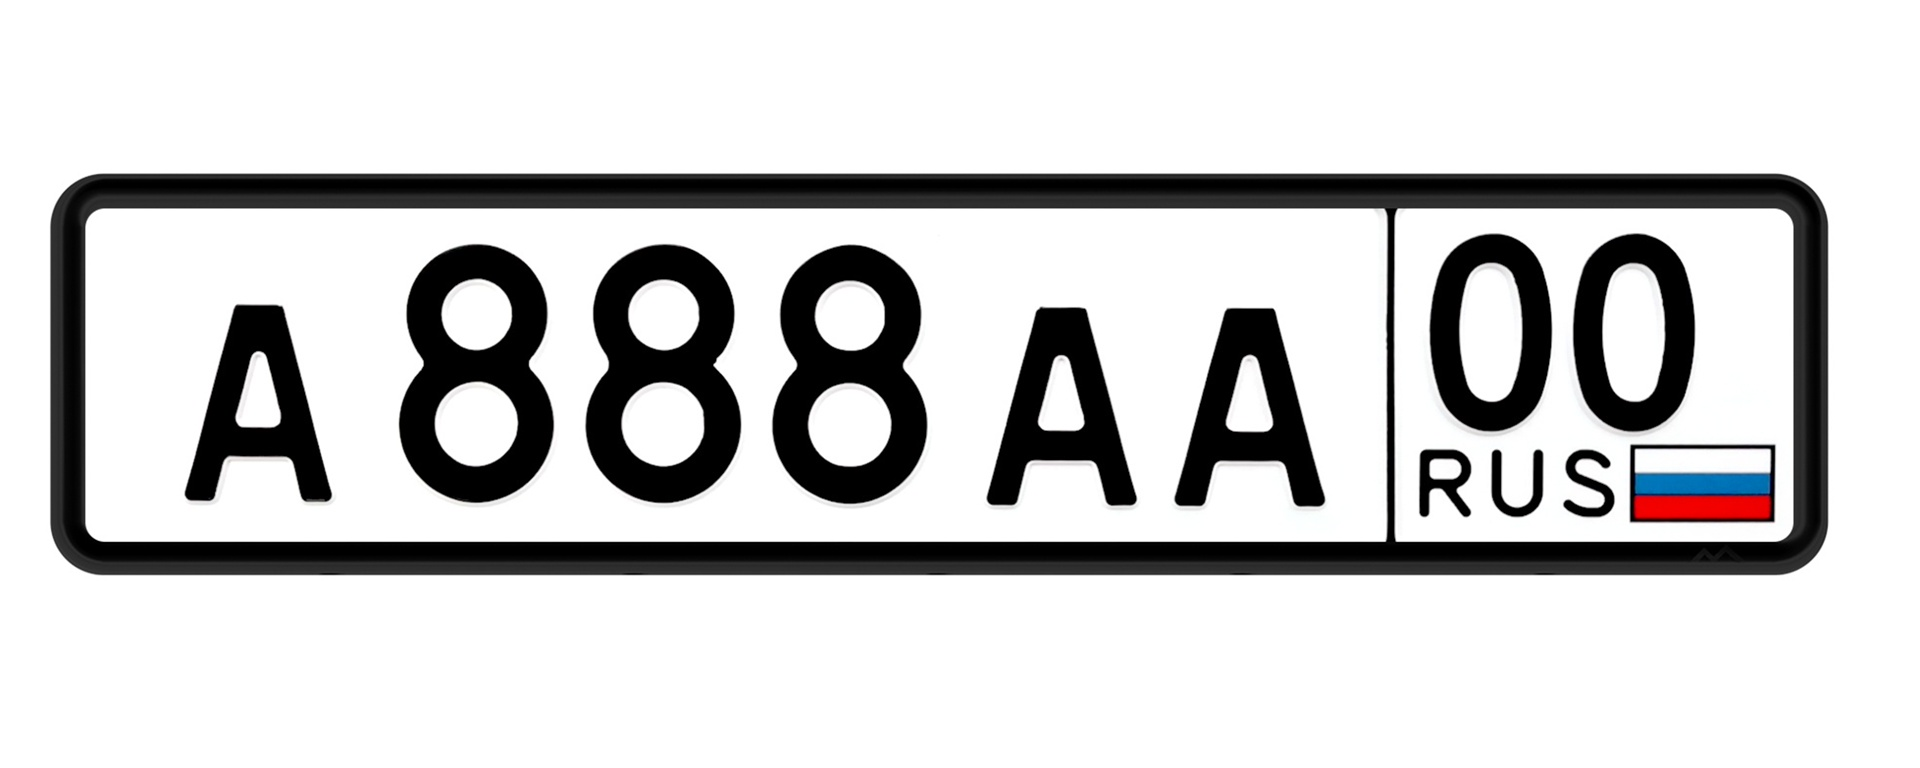number_plate: (58, 188, 1798, 560)
